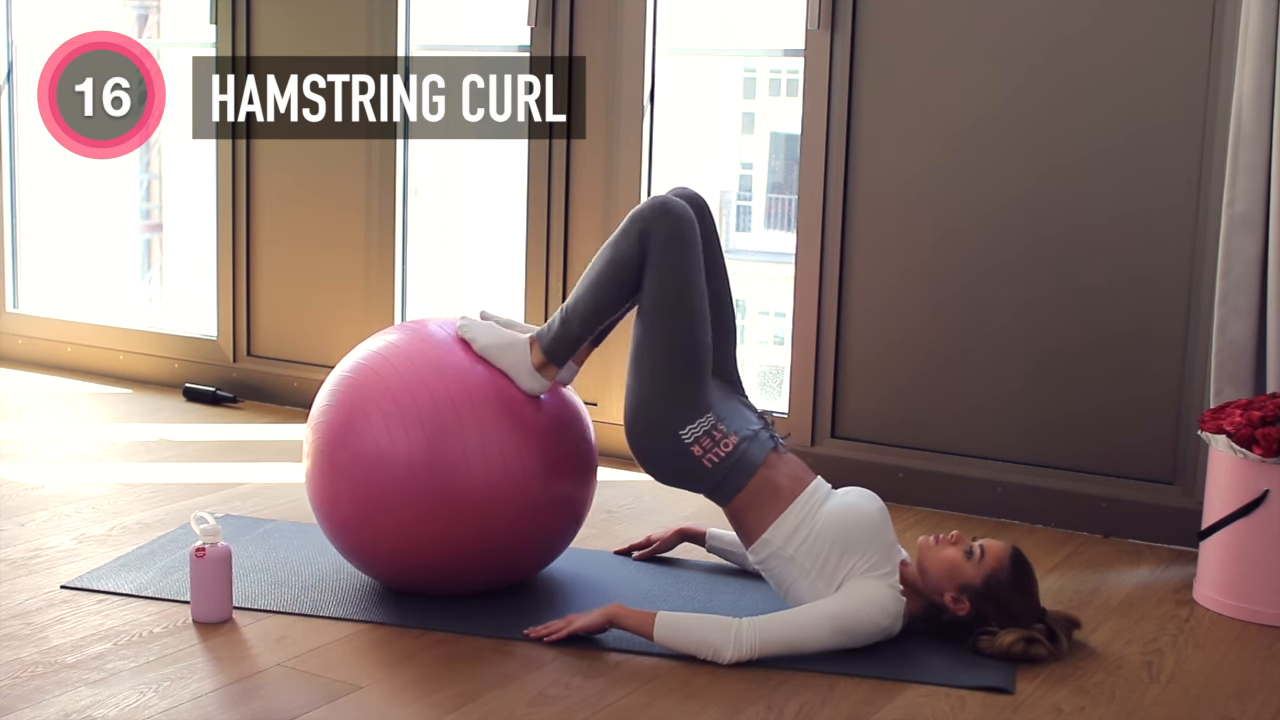yogaball: (297, 308, 604, 606)
